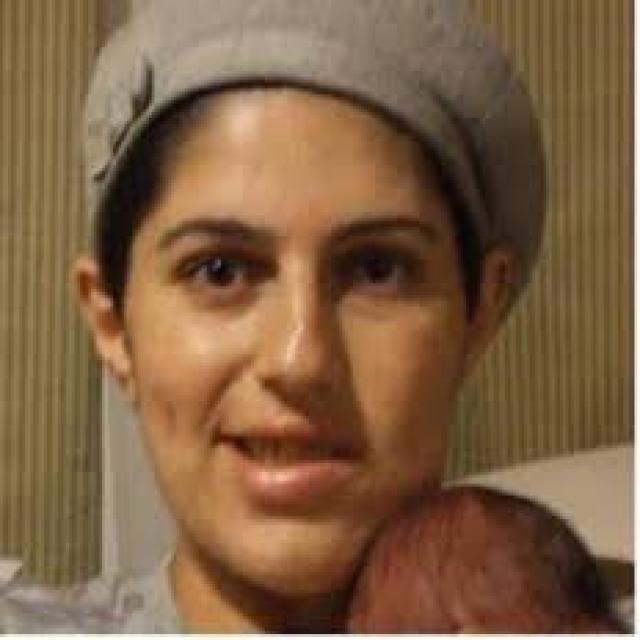stroke_face: (107, 101, 463, 608)
